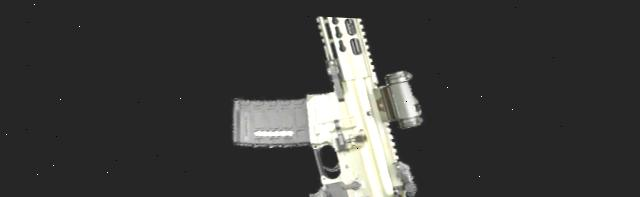rifle: (201, 8, 444, 197)
